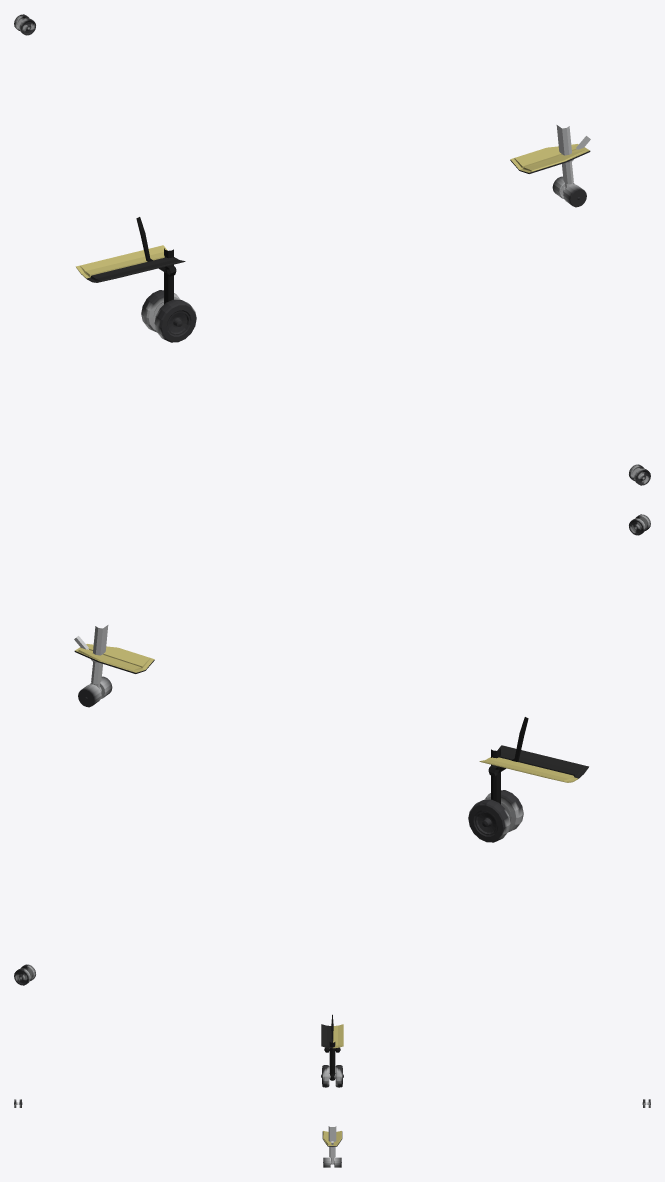
The model's file is u2.gear.glb.
3 renders of one model, top to bottom at view 1: azimuth 30°, elevation 25°; view 2: azimuth 150°, elevation 25°; view 3: azimuth 270°, elevation 25°, orthographic. The views are drawn at different scales.
Visible parts, largest first — view 1: gear; view 2: gear; view 3: gear.
Part boxes in pixels (bbox=[...]): gear: bbox=[14, 14, 650, 485]; gear: bbox=[14, 514, 650, 985]; gear: bbox=[14, 1014, 650, 1167].
Size of the model in its own units: 8.24 by 1.98 by 17.66.
